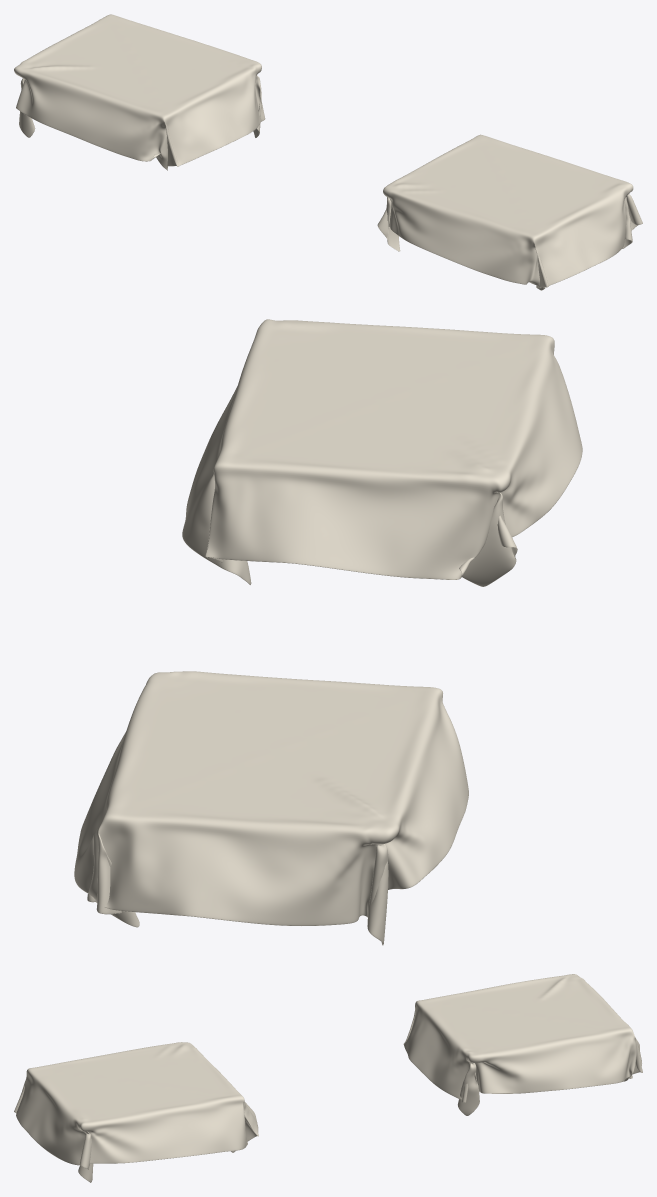
The picture shows the model from 3 angles, top to bottom: view 1: azimuth 30°, elevation 25°; view 2: azimuth 150°, elevation 25°; view 3: azimuth 270°, elevation 25°; orthographic projection. The views are drawn at different scales.
Parts seen in each view (by area): view 1: n01038, n01040; view 2: n01038, n01040; view 3: n01038, n01040.
Boxes of the visible parts, x1=… form: n01038: x1=377, y1=134, x2=642, y2=290; n01040: x1=14, y1=14, x2=265, y2=170; n01038: x1=182, y1=319, x2=582, y2=586; n01040: x1=74, y1=671, x2=468, y2=945; n01038: x1=14, y1=1042, x2=258, y2=1182; n01040: x1=403, y1=974, x2=642, y2=1115.
Size of the model in its own units: 2.58 by 0.4937 by 4.34.
